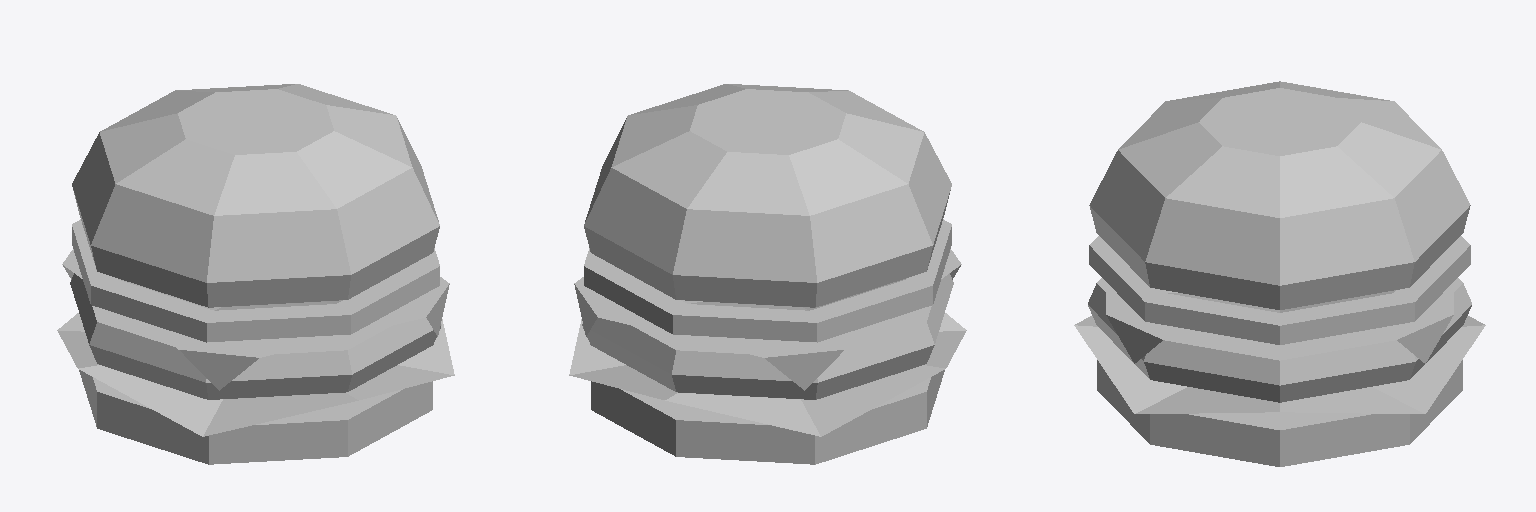
File: burger.obj
3 views of the same model, side by side, from view 1: azimuth 30°, elevation 25°; view 2: azimuth 150°, elevation 25°; view 3: azimuth 270°, elevation 25° (orthographic).
Visible parts, largest first — view 1: bun-top, patty, bun-bottom, tomato, salad, cheese; view 2: bun-top, patty, bun-bottom, tomato, salad, cheese; view 3: bun-top, patty, tomato, bun-bottom, salad, cheese.
Boxes of the visible parts, <box> form: bun-top: <box>72,84,439,307</box>; patty: <box>70,273,441,399</box>; bun-bottom: <box>79,370,432,464</box>; tomato: <box>72,219,439,342</box>; salad: <box>57,313,454,436</box>; cheese: <box>62,249,449,390</box>; bun-top: <box>584,84,951,307</box>; patty: <box>582,273,953,399</box>; bun-bottom: <box>591,370,944,464</box>; tomato: <box>584,219,951,342</box>; salad: <box>569,313,966,436</box>; cheese: <box>574,249,961,390</box>; bun-top: <box>1089,81,1470,309</box>; patty: <box>1088,278,1471,402</box>; tomato: <box>1089,236,1470,344</box>; bun-bottom: <box>1097,360,1462,466</box>; salad: <box>1074,316,1485,413</box>; cheese: <box>1106,282,1453,363</box>.
Size of the model in its own units: 0.4041 by 0.29 by 0.4041.